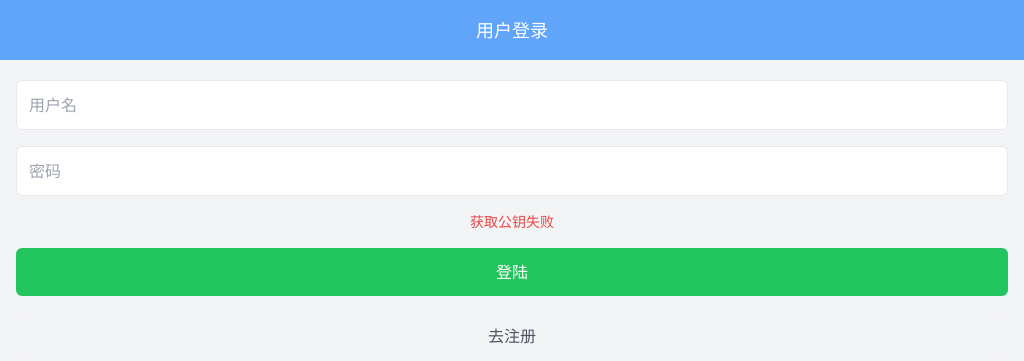
Test case: Login.vue › 应该处理公钥未获取的情况
Type "testuser" into the field with placeholder "用户名" at [512, 105], box top-left (16, 80), bottom-right (1008, 130)
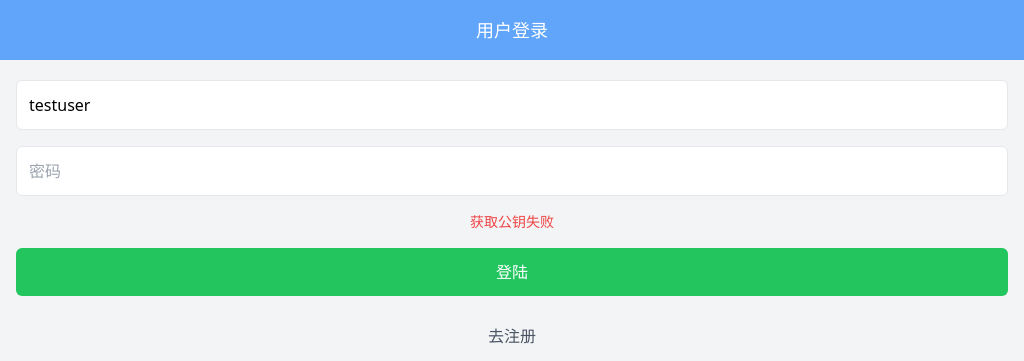
Type "testpass" into the password field with placeholder "密码" at [512, 171], box top-left (16, 146), bottom-right (1008, 196)
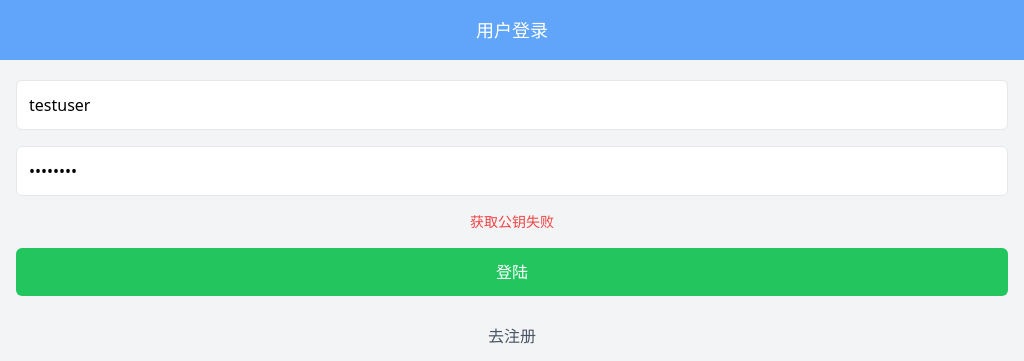
Click the button "登陆" at [512, 272], box top-left (16, 248), bottom-right (1008, 296)
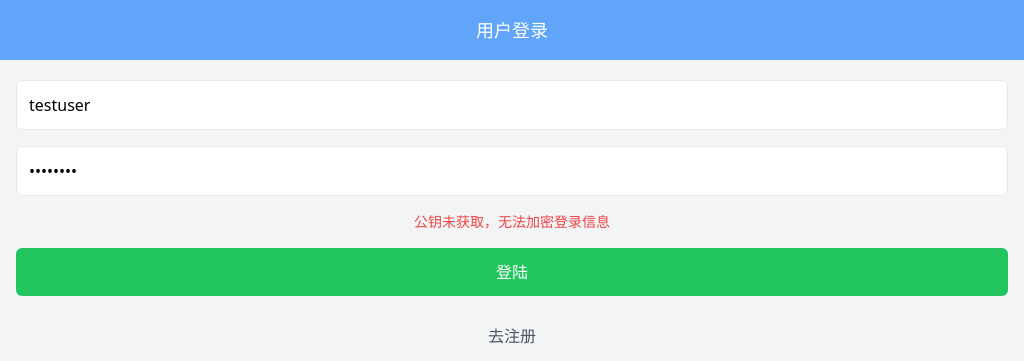
Now the text "公钥未获取，无法加密登录信息" is shown, box top-left (414, 212), bottom-right (610, 231)
